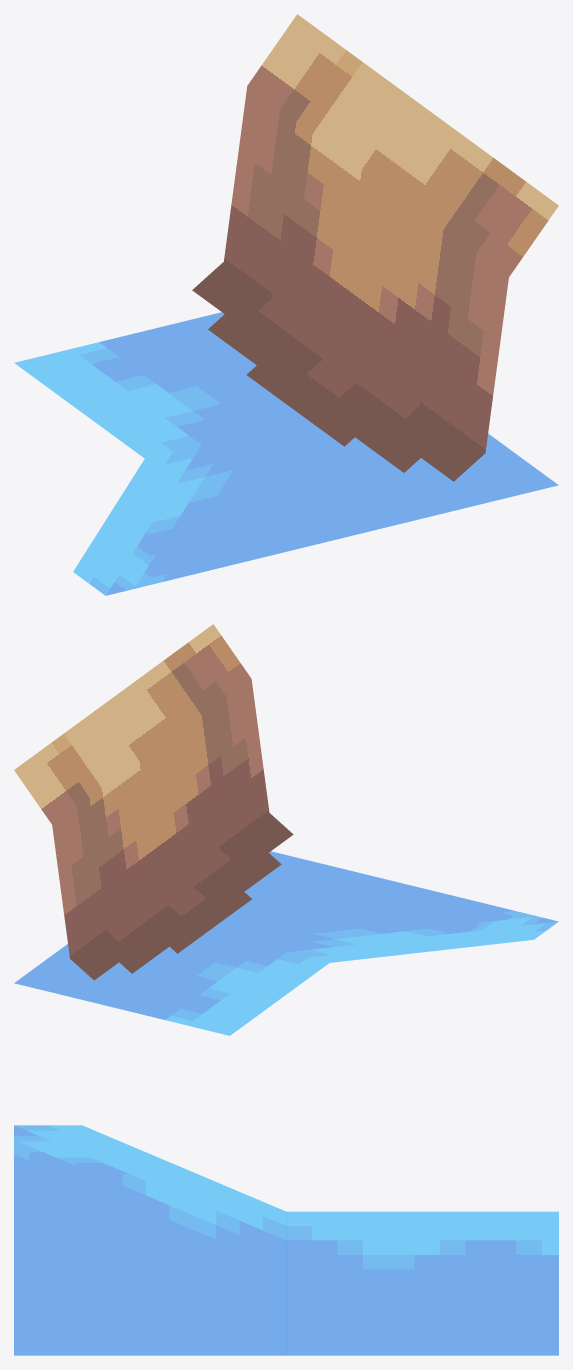
3 views of the same model, one above another, from view 1: azimuth 30°, elevation 25°; view 2: azimuth 150°, elevation 25°; view 3: azimuth 270°, elevation 25° (orthographic). The views are drawn at different scales.
Size of the model in its own units: 1 by 0.5896 by 1.
Materials: 2 (2 with a texture image).
